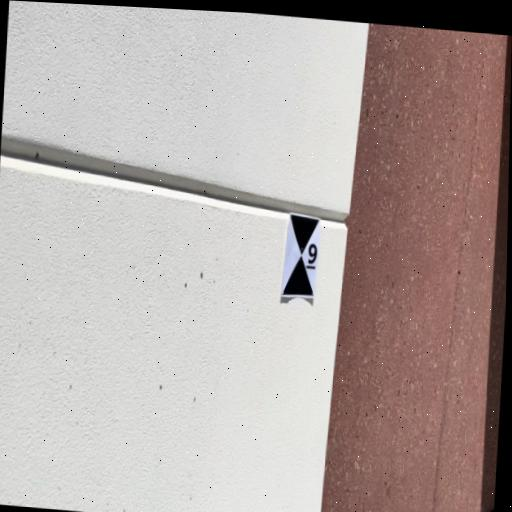target9: (280, 212, 320, 298)
